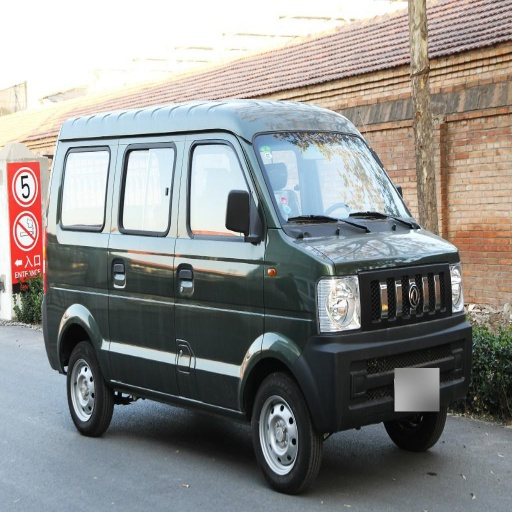front_bumper: (317, 262, 472, 427)
front_right_door: (175, 137, 268, 405)
front_right_light: (316, 273, 361, 332)
trunk: (44, 249, 103, 345)
